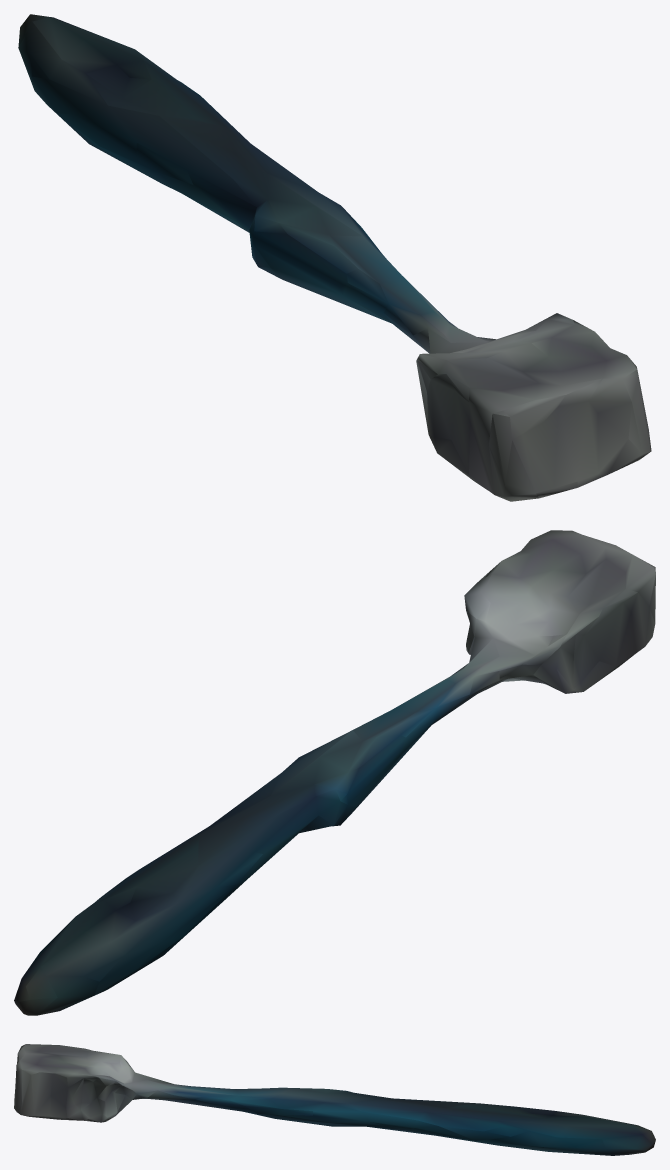
The model's file is 0002_mask_003_toothbrush.glb.
3 renders of one model, top to bottom at view 1: azimuth 30°, elevation 25°; view 2: azimuth 150°, elevation 25°; view 3: azimuth 270°, elevation 25°, orthographic. The views are drawn at different scales.
Visible parts, largest first — view 1: mask_003_object; view 2: mask_003_object; view 3: mask_003_object.
Boxes of the visible parts, x1,y1,x2,y2 form: mask_003_object: (18,14,651,501); mask_003_object: (14,530,655,1015); mask_003_object: (14,1044,655,1155).
Bounding box in the file's own units: 0.066 × 0.0513 × 0.374.
